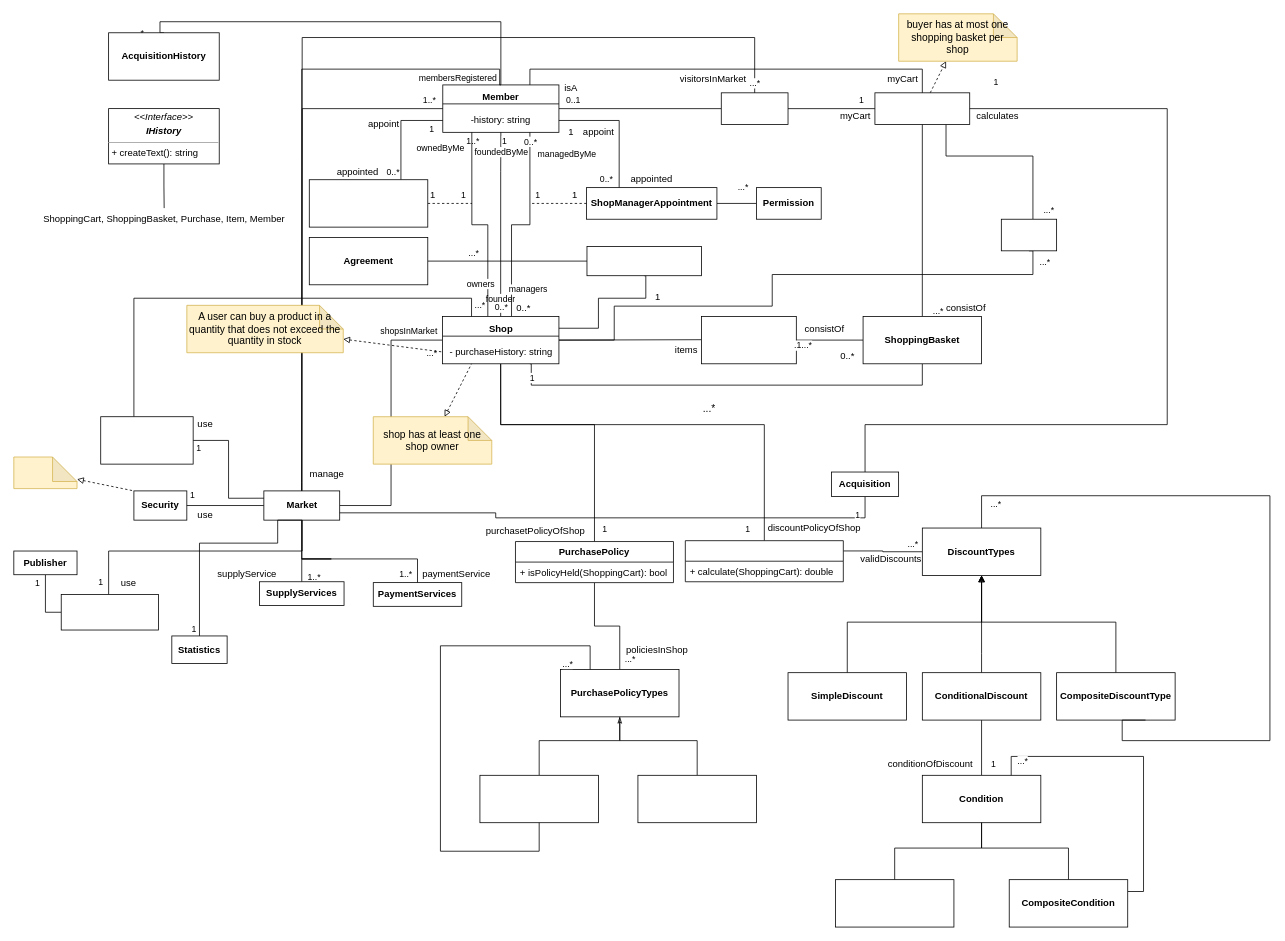
Some shapes in this 1285 by 941 pixel diagram are drawn without their labels. The box of each missing label's shape, as (x1, y1, x2, y2) in pixels:
Bid: (1001, 218, 1057, 251)
ClosedShopHistory: (100, 416, 193, 464)
CompositePurchasePolicy: (479, 775, 598, 823)
DiscountPolicy: (685, 540, 843, 582)
item: (701, 316, 796, 364)
NotificationHandler: (60, 594, 158, 630)
PendingAppointments: (586, 246, 702, 276)
ShopOwnerAppointment: (308, 179, 428, 227)
ShoppingCart: (874, 92, 970, 124)
SimpleCondition: (835, 879, 954, 927)
SimplePolicy: (637, 775, 756, 823)
unique name: (13, 456, 77, 489)
Visitor: (720, 92, 788, 124)
